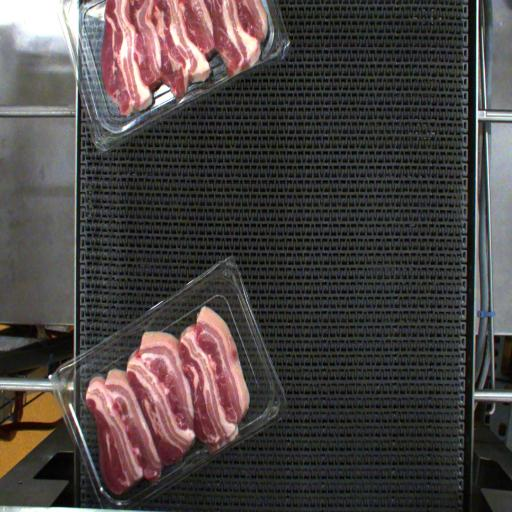wrinkle: (172, 399, 204, 420)
